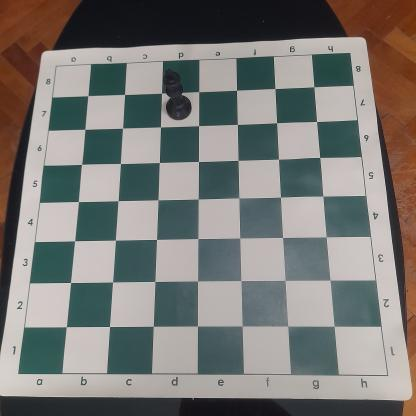black-king: (161, 68, 193, 121)
